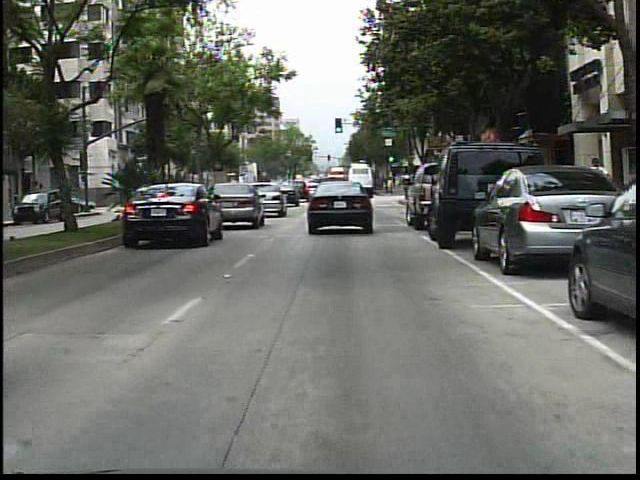person: (583, 154, 610, 223)
